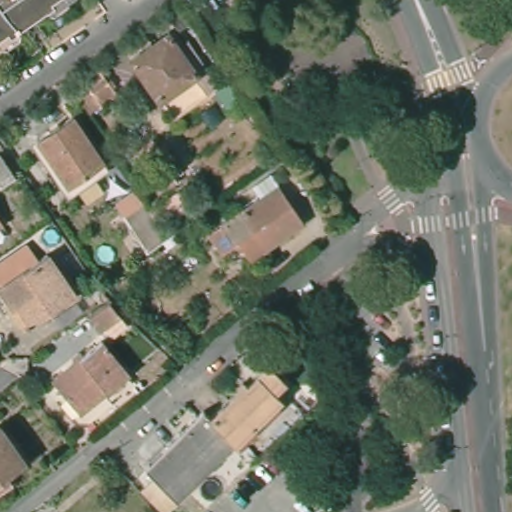pool: (36, 224, 67, 248), (93, 242, 119, 267)
